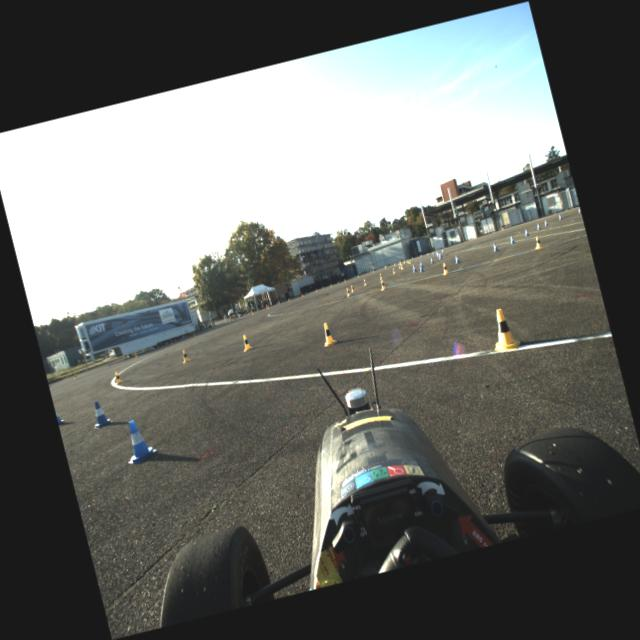blue_cone: (118, 416, 158, 464), (88, 398, 112, 428), (54, 408, 64, 424), (491, 242, 499, 252), (453, 254, 460, 264), (508, 234, 515, 243), (418, 263, 424, 272), (535, 222, 541, 230), (522, 228, 528, 235), (542, 219, 548, 226), (411, 264, 416, 272), (429, 256, 433, 264), (557, 214, 562, 220), (419, 261, 423, 267), (438, 253, 442, 259), (577, 207, 581, 213), (106, 361, 110, 366), (438, 252, 442, 256), (441, 249, 444, 253), (436, 250, 438, 256), (369, 270, 372, 273), (411, 256, 413, 260), (338, 280, 340, 284), (384, 264, 386, 268), (152, 346, 154, 350), (182, 335, 184, 339), (420, 254, 422, 257), (426, 252, 428, 255), (432, 250, 434, 253), (322, 286, 324, 289), (230, 319, 232, 322), (248, 312, 250, 314), (276, 302, 278, 304), (211, 326, 213, 328), (354, 276, 355, 278), (290, 297, 291, 299), (306, 292, 306, 294)
large_orange_cone: (266, 303, 268, 308), (278, 300, 280, 304)
yellow_cone: (485, 306, 521, 354), (318, 320, 337, 347), (240, 332, 252, 352), (532, 234, 542, 249), (180, 348, 190, 362), (112, 370, 122, 382), (440, 262, 449, 275), (379, 280, 386, 290), (344, 287, 350, 296), (362, 278, 367, 286), (349, 284, 354, 292), (378, 272, 382, 278), (391, 268, 395, 274), (408, 258, 412, 264), (74, 372, 78, 378), (134, 352, 138, 357), (398, 260, 402, 265), (401, 264, 404, 269), (192, 332, 195, 336), (398, 263, 400, 268), (170, 339, 172, 344), (315, 288, 317, 292), (403, 260, 405, 264), (384, 264, 386, 268), (266, 304, 268, 308), (408, 260, 410, 264), (406, 258, 408, 262), (288, 298, 290, 301), (302, 293, 304, 296), (343, 279, 345, 282), (357, 274, 359, 277), (372, 269, 374, 272), (394, 263, 396, 266), (215, 325, 217, 328), (252, 312, 254, 314), (234, 318, 236, 320), (330, 284, 332, 286)
